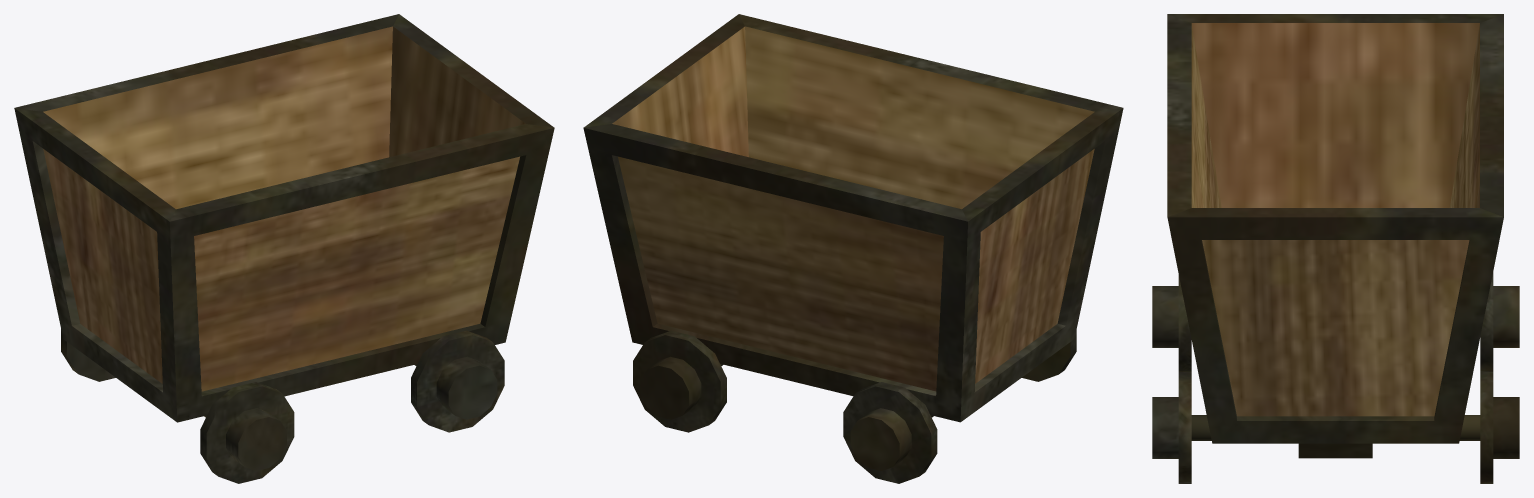
Rendered from mine_cart.fbx.
3 renders of one model, left to right at view 1: azimuth 30°, elevation 25°; view 2: azimuth 150°, elevation 25°; view 3: azimuth 270°, elevation 25°, orthographic. The views are drawn at different scales.
Visible parts, largest first — view 1: MineCart; view 2: MineCart; view 3: MineCart.
Part boxes in pixels (x1,y1,x2,y2): MineCart: (14, 14, 554, 483); MineCart: (583, 14, 1123, 483); MineCart: (1152, 14, 1519, 483).
Bounding box in the file's own units: 2.28 × 1.61 × 1.74.
Materials: 2 (2 with a texture image).
